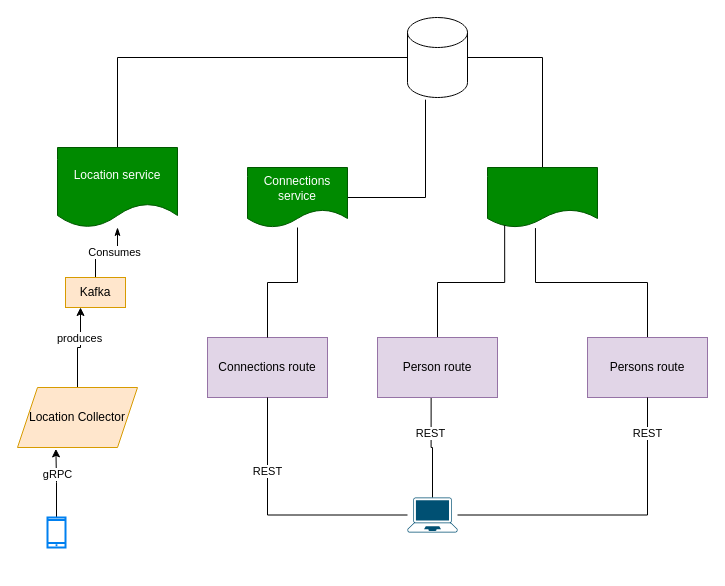
The diagram is 725 pixels wide and 586 high, and some of its shapes have lost their labels. The centre of each missing label's shape, as x and y in pixels:
Database: the point at 437,57
Mobile users: the point at 56,532
Persons service: the point at 542,197
Web users: the point at 432,514
